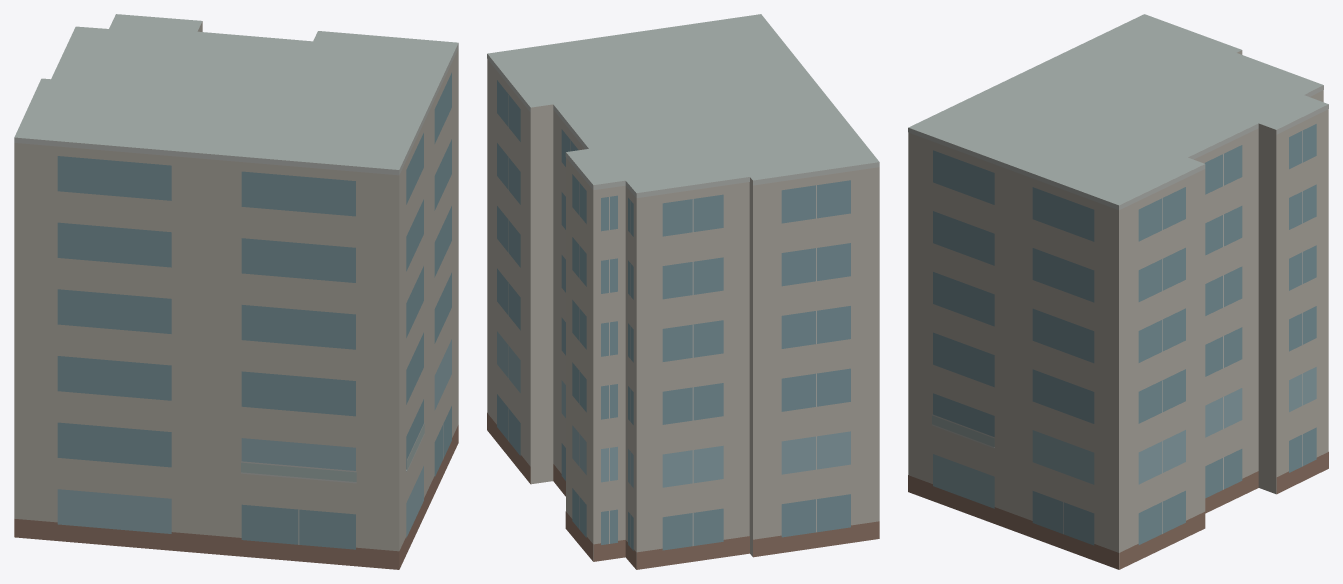
The model's file is survey-upis-32588059.glb.
The picture shows the model from 3 angles, left to right: view 1: azimuth 30°, elevation 25°; view 2: azimuth 150°, elevation 25°; view 3: azimuth 270°, elevation 25°; orthographic projection. The views are drawn at different scales.
Visible parts, largest first — view 1: survey-upis-32588059.tmp; view 2: survey-upis-32588059.tmp; view 3: survey-upis-32588059.tmp.
Part boxes in pixels (bbox=[...]): survey-upis-32588059.tmp: bbox=[14, 14, 458, 569]; survey-upis-32588059.tmp: bbox=[487, 14, 879, 569]; survey-upis-32588059.tmp: bbox=[908, 14, 1328, 569].
Bounding box in the file's own units: 20.63 × 18.3 × 19.15.
